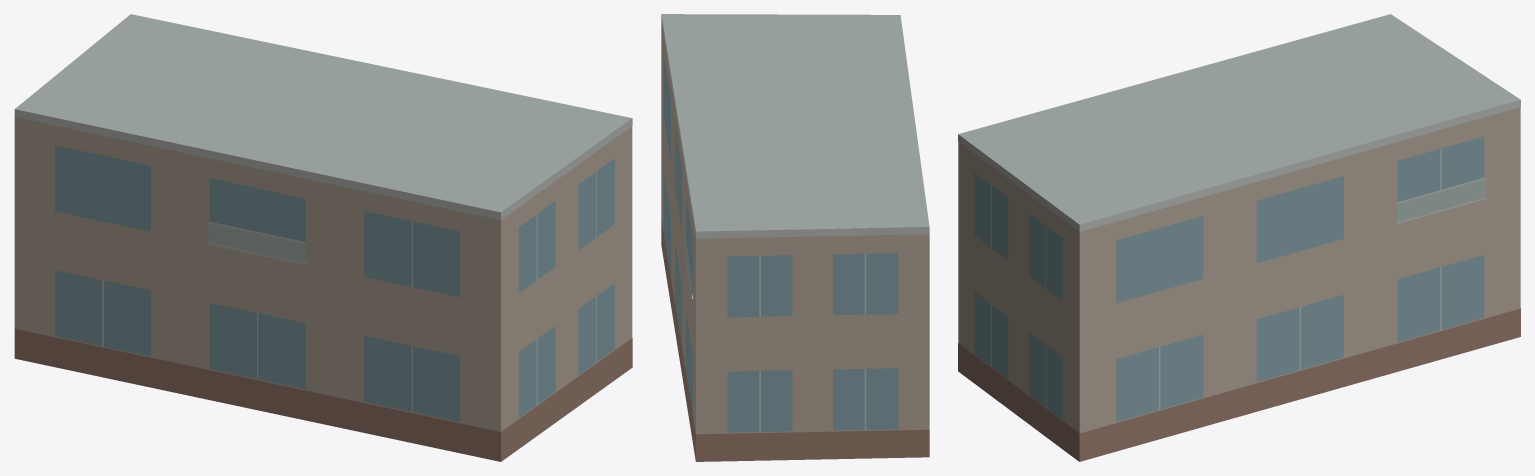
Rendered from survey-upis-32990363.glb.
The picture shows the model from 3 angles, left to right: view 1: azimuth 30°, elevation 25°; view 2: azimuth 150°, elevation 25°; view 3: azimuth 270°, elevation 25°; orthographic projection. The views are drawn at different scales.
Parts seen in each view (by area): view 1: survey-upis-32990363.tmp; view 2: survey-upis-32990363.tmp; view 3: survey-upis-32990363.tmp.
Part boxes in pixels (x1=…): survey-upis-32990363.tmp: x1=14, y1=14, x2=632, y2=461; survey-upis-32990363.tmp: x1=661, y1=14, x2=929, y2=461; survey-upis-32990363.tmp: x1=958, y1=14, x2=1520, y2=461.
Bounding box in the file's own units: 14.87 × 7.8 × 16.78.
